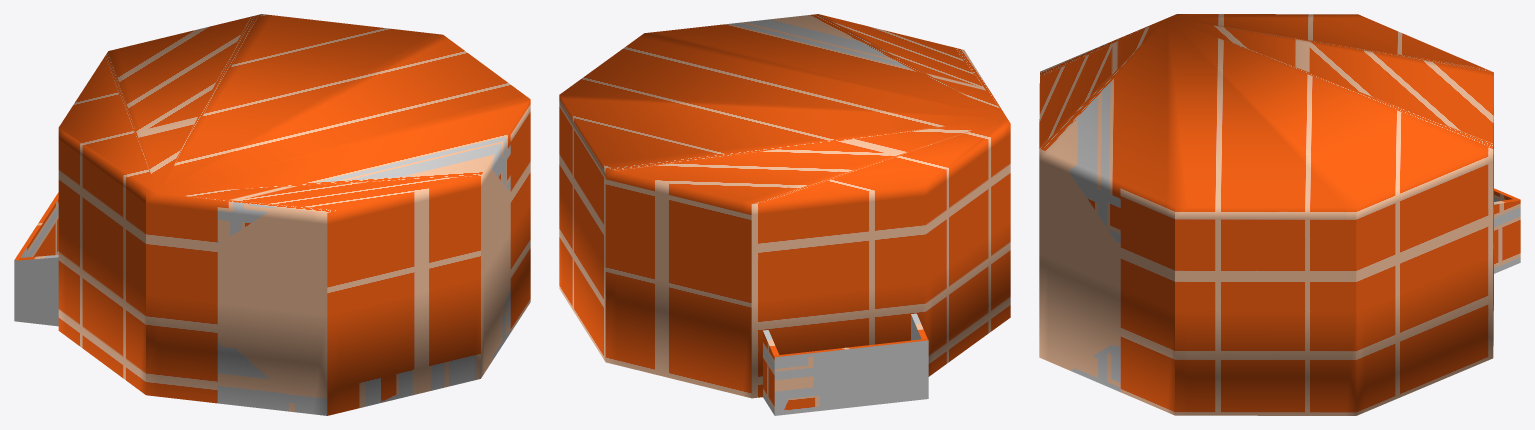
Rendered from tek_balkonlu_kat.fbx.
3 views of the same model, side by side, from view 1: azimuth 30°, elevation 25°; view 2: azimuth 150°, elevation 25°; view 3: azimuth 270°, elevation 25° (orthographic). The views are drawn at different scales.
Parts seen in each view (by area): view 1: Cube.002; view 2: Cube.002; view 3: Cube.002.
Part boxes in pixels (x1=…): Cube.002: x1=14, y1=14, x2=530, y2=415; Cube.002: x1=559, y1=14, x2=1010, y2=415; Cube.002: x1=1039, y1=14, x2=1520, y2=415.
Bounding box in the file's own units: 212 × 101 × 211.
